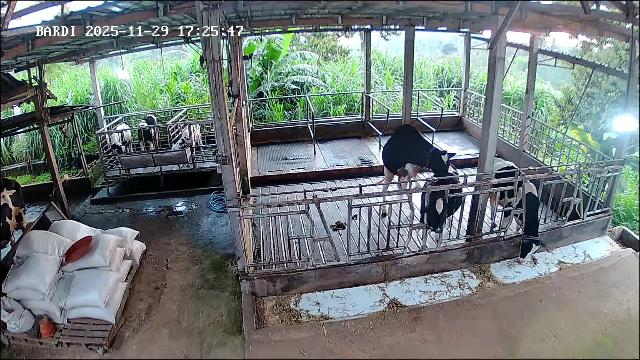mounting: (377, 128, 458, 211)
